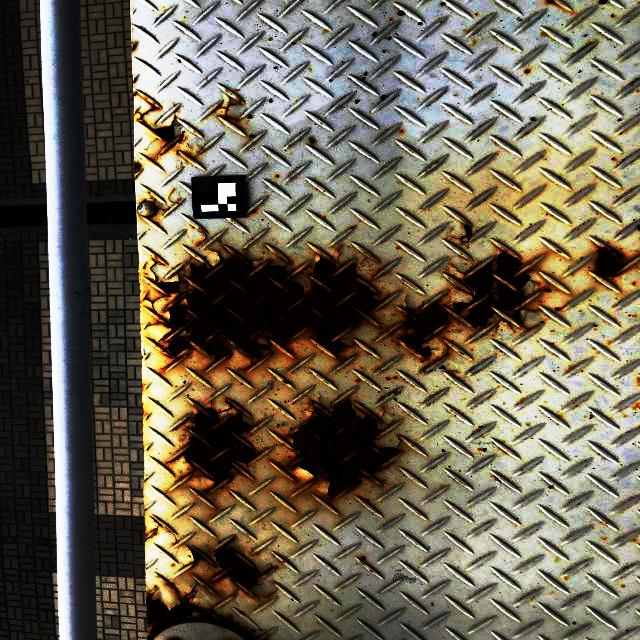Corrosion: (144, 253, 380, 365), (396, 251, 546, 362), (288, 400, 403, 501), (183, 403, 258, 492), (210, 538, 277, 601), (133, 98, 184, 156), (146, 597, 212, 640), (591, 236, 640, 279), (215, 97, 244, 126), (188, 545, 203, 565), (462, 224, 474, 238), (133, 159, 141, 174)
